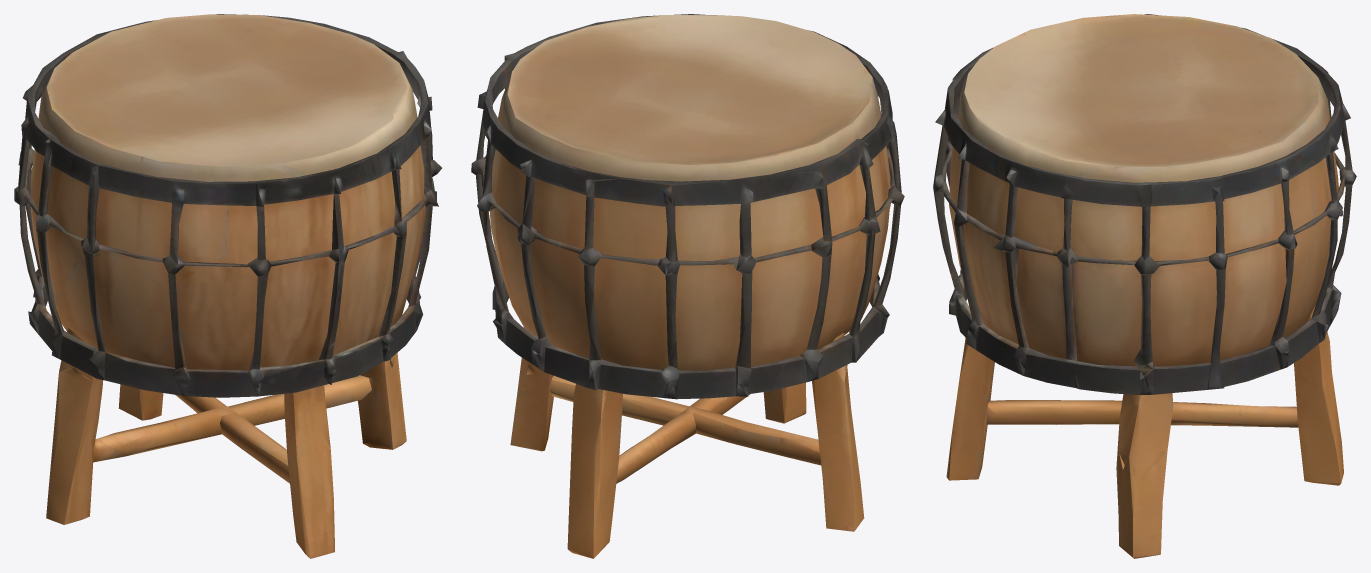
Rendered from m2CeremonyDrum.glb.
3 renders of one model, left to right at view 1: azimuth 30°, elevation 25°; view 2: azimuth 150°, elevation 25°; view 3: azimuth 270°, elevation 25°, orthographic. The views are drawn at different scales.
Parts seen in each view (by area): view 1: model; view 2: model; view 3: model.
Boxes of the visible parts, x1,y1,x2,y2 form: model: [14, 14, 441, 558]; model: [471, 14, 904, 558]; model: [933, 14, 1356, 558].
Bounding box in the file's own units: 1.9 × 1.89 × 1.87.
1 material, 1 textured.
